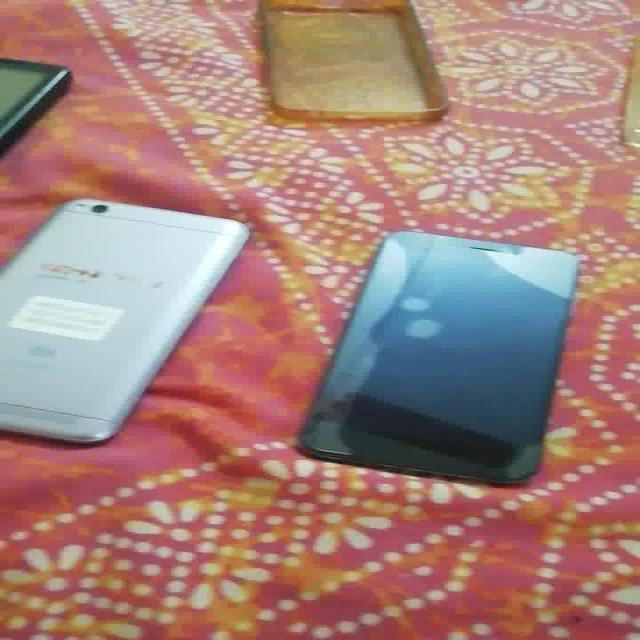phone: (303, 224, 582, 471), (1, 196, 251, 451), (3, 40, 71, 156)
